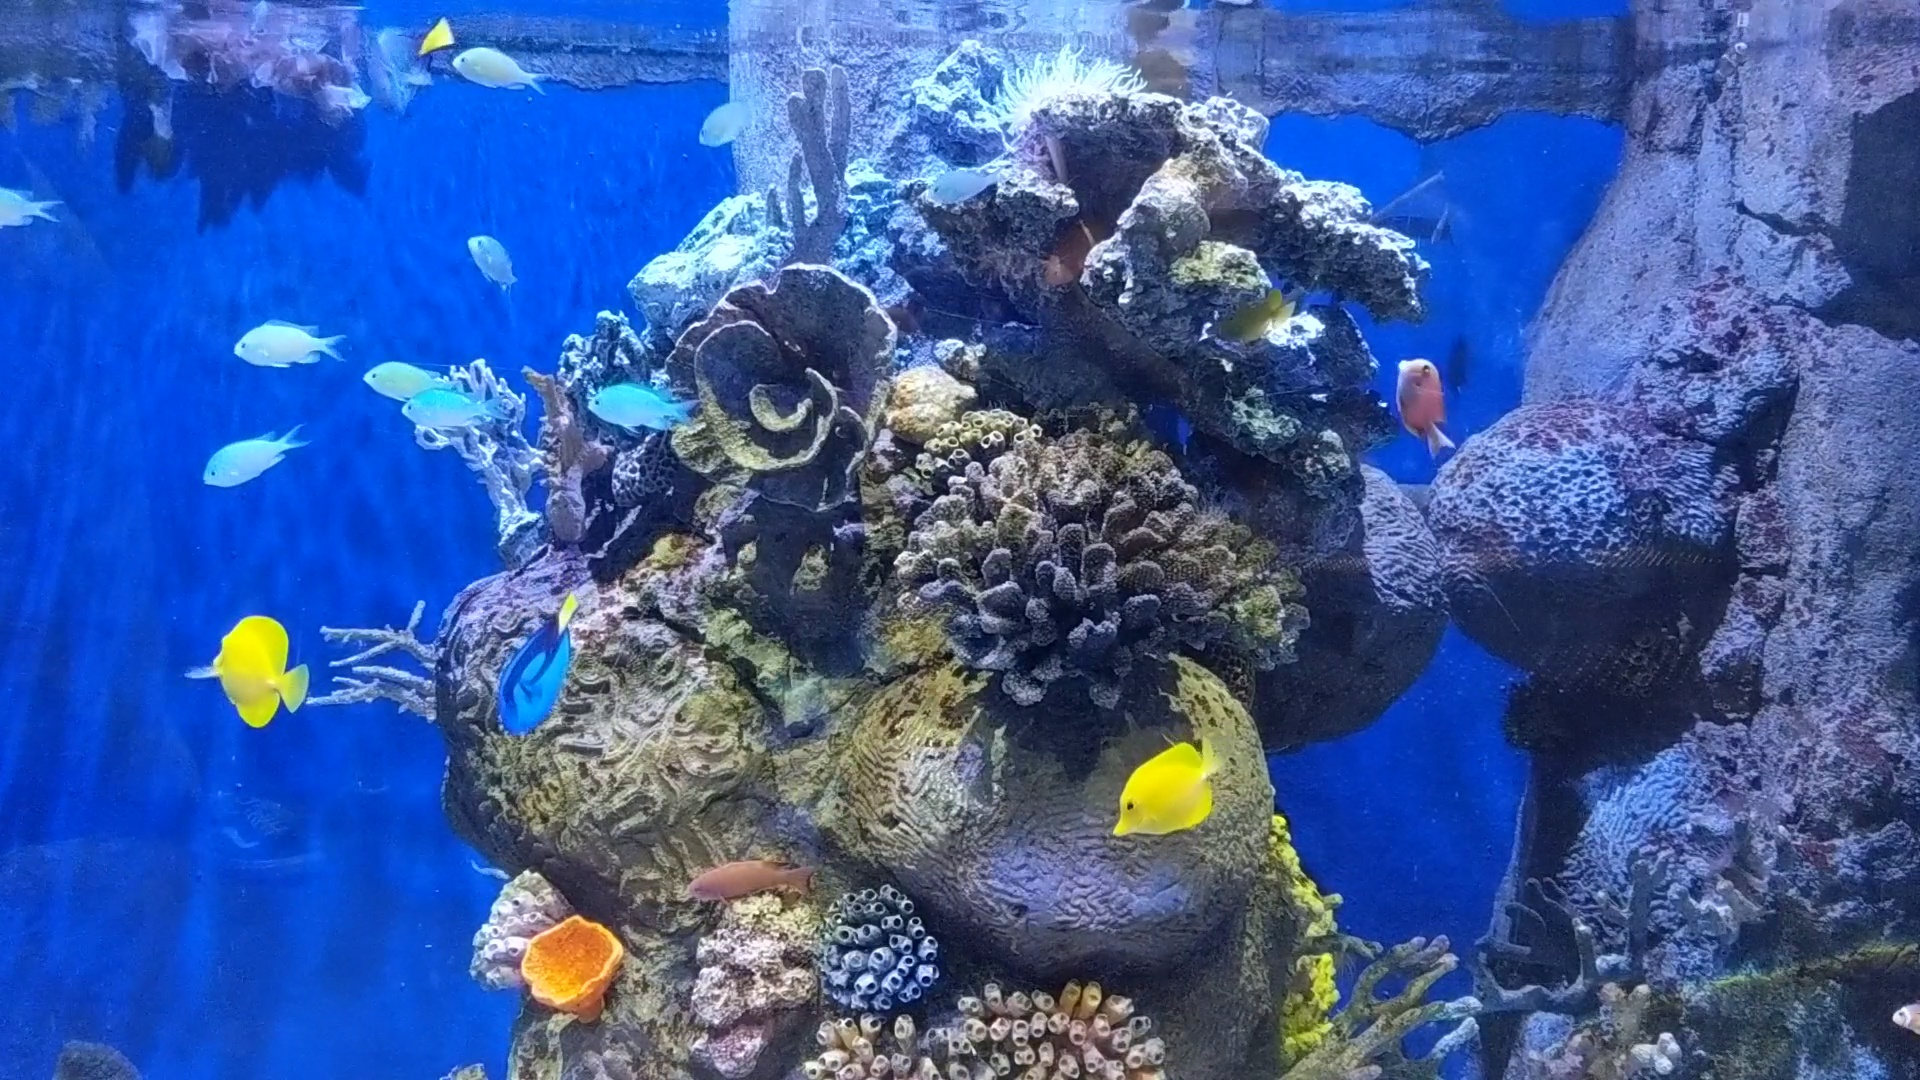blue tang surgeonfish: (477, 580, 588, 727), (356, 17, 458, 94)
damselfish: (585, 368, 691, 442), (224, 313, 342, 378), (194, 419, 302, 491), (448, 45, 556, 103), (458, 223, 530, 306), (915, 157, 1001, 219), (404, 388, 504, 436), (360, 345, 442, 404), (684, 91, 760, 145)
pink fish: (1389, 342, 1460, 458)
saddle butterfly fish: (1097, 731, 1230, 853), (194, 611, 313, 727)
